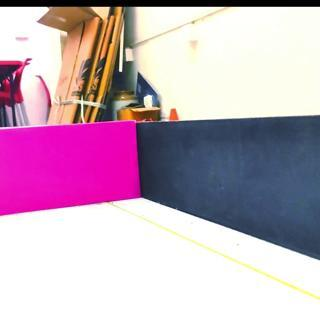xparking: (1, 129, 135, 217)
